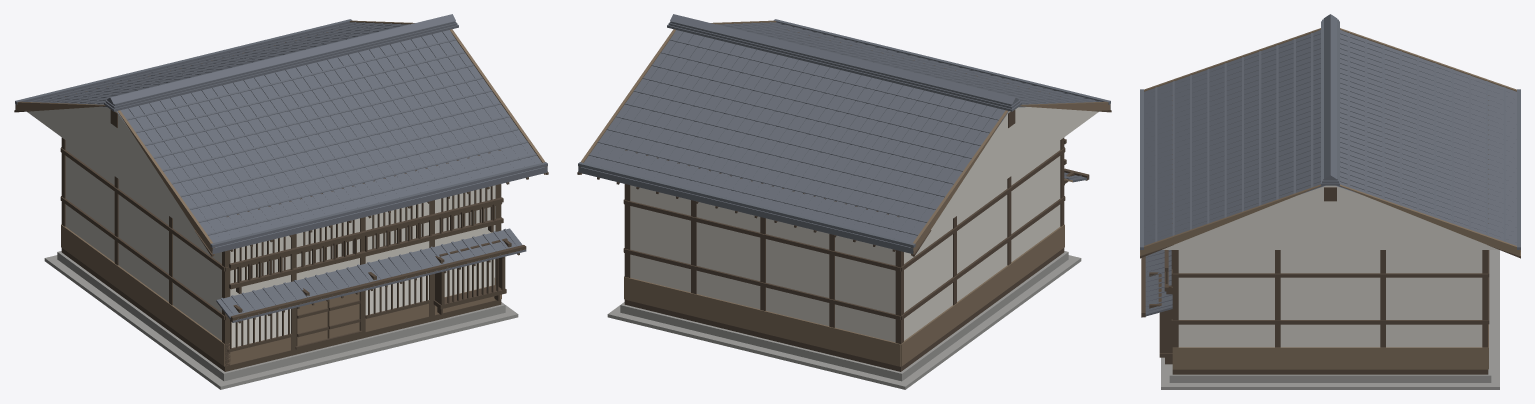
Rendered from machiya_f_n.glb.
The picture shows the model from 3 angles, left to right: view 1: azimuth 30°, elevation 25°; view 2: azimuth 150°, elevation 25°; view 3: azimuth 270°, elevation 25°; orthographic projection. The views are drawn at different scales.
Parts seen in each view (by area): view 1: machiya_f_n; view 2: machiya_f_n; view 3: machiya_f_n.
Part boxes in pixels (x1,y1,x2,y2): machiya_f_n: [14, 14, 548, 389]; machiya_f_n: [577, 14, 1111, 389]; machiya_f_n: [1140, 14, 1520, 389].
Bounding box in the file's own units: 10 × 6.47 × 9.9.
